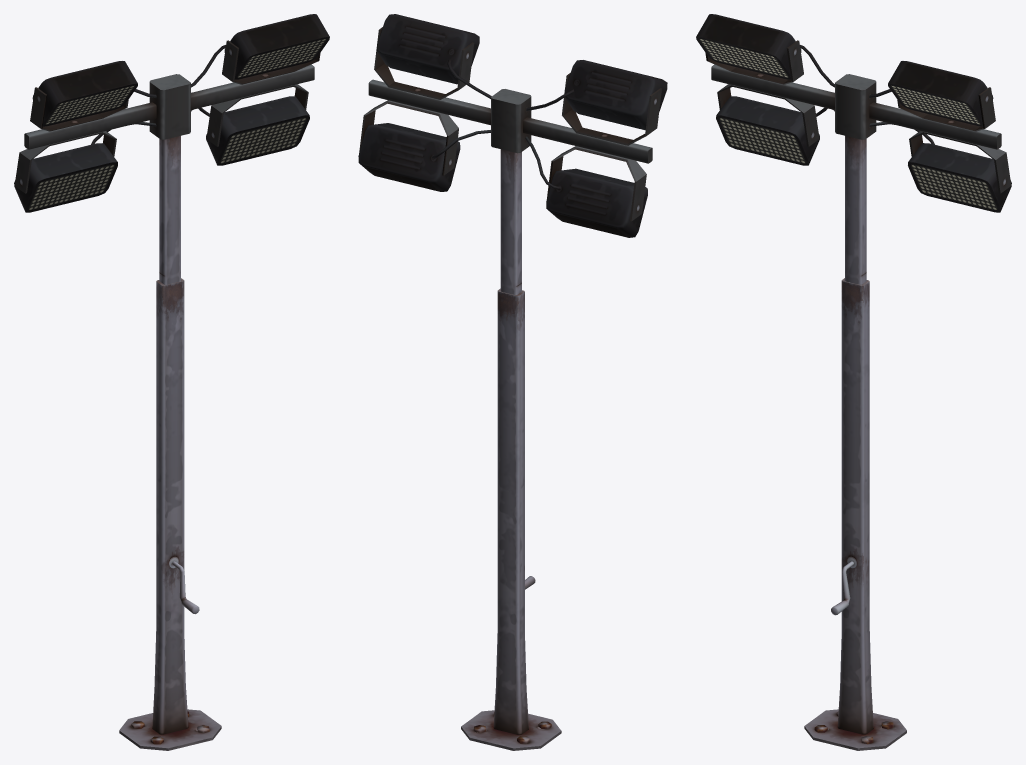
File: TowerLight01B_2.FBX
3 renders of one model, left to right at view 1: azimuth 30°, elevation 25°; view 2: azimuth 150°, elevation 25°; view 3: azimuth 330°, elevation 25°, orthographic. The views are drawn at different scales.
Visible parts, largest first — view 1: TowerLight01B_2; view 2: TowerLight01B_2; view 3: TowerLight01B_2.
Part boxes in pixels (box(x1,y1,x2,y2)): TowerLight01B_2: box(14, 14, 329, 750); TowerLight01B_2: box(358, 14, 667, 750); TowerLight01B_2: box(696, 14, 1011, 750).
Size of what is drawn, in the model's own units: 2.25 by 5.21 by 0.6225.
